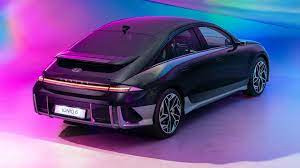car: (32, 15, 270, 138)
